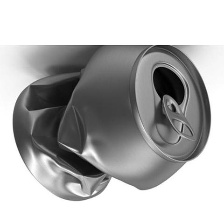can: (11, 45, 216, 202)
